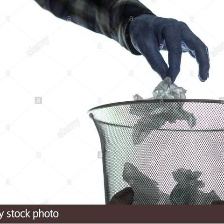tissue: (122, 72, 200, 148), (163, 161, 224, 204), (118, 157, 166, 203)
